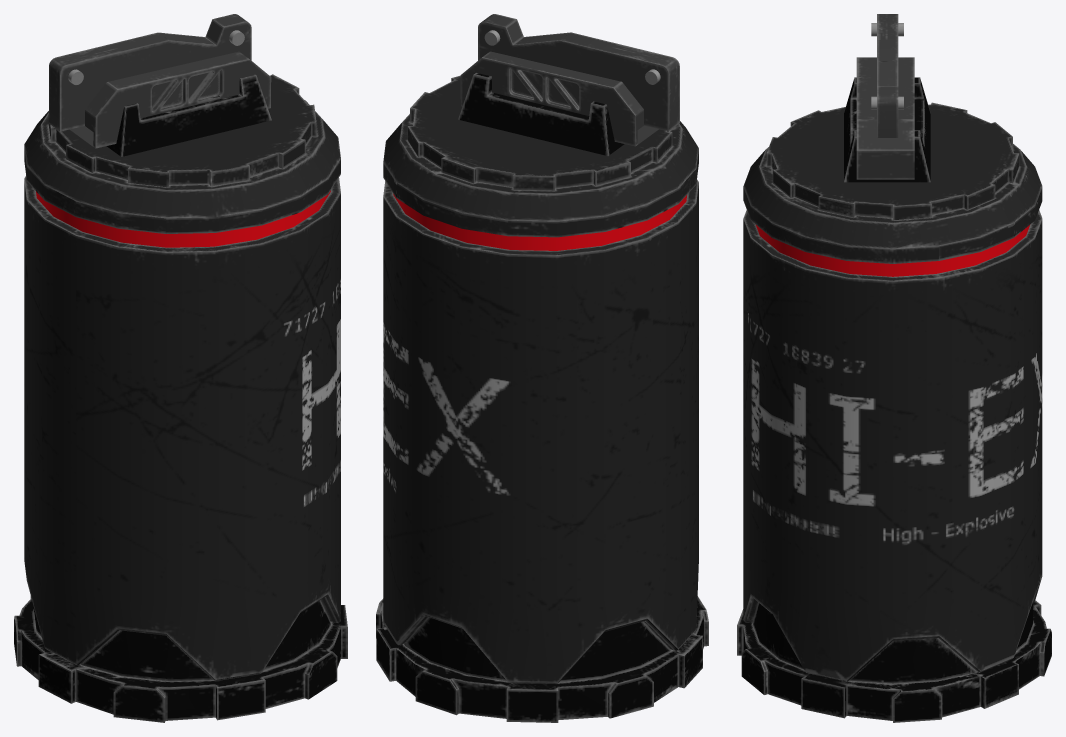
The model's file is Hi-Ex Grenade Thrown.fbx.
3 views of the same model, side by side, from view 1: azimuth 30°, elevation 25°; view 2: azimuth 150°, elevation 25°; view 3: azimuth 270°, elevation 25° (orthographic). The views are drawn at different scales.
Parts seen in each view (by area): view 1: Hi-Ex Grenade Thrown_LOD0; view 2: Hi-Ex Grenade Thrown_LOD0; view 3: Hi-Ex Grenade Thrown_LOD0.
Boxes of the visible parts, x1=… form: Hi-Ex Grenade Thrown_LOD0: x1=14, y1=14, x2=347, y2=722; Hi-Ex Grenade Thrown_LOD0: x1=376, y1=14, x2=708, y2=722; Hi-Ex Grenade Thrown_LOD0: x1=737, y1=14, x2=1051, y2=722.
Size of what is drawn, in the model's own units: 16.81 by 34.62 by 16.81.
